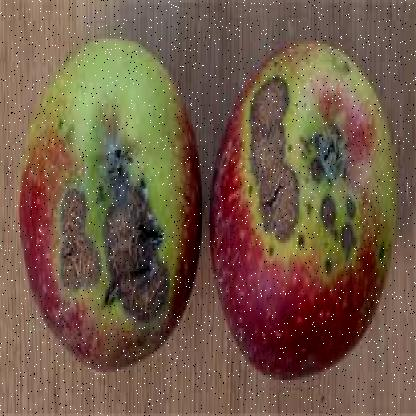damaged_apple: (207, 41, 399, 382), (20, 42, 201, 372)
